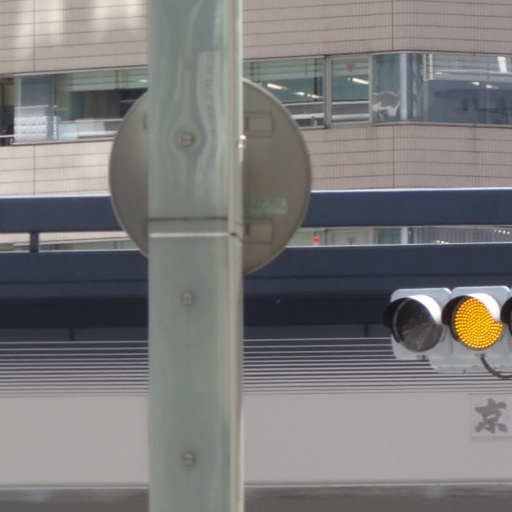Traffic_Signal_Yellow: (388, 274, 509, 370)
